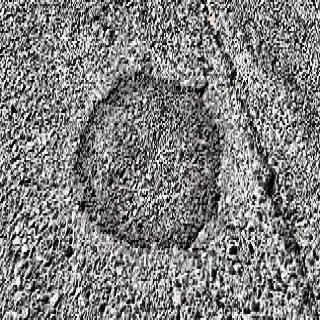pothole: (77, 71, 222, 252)
